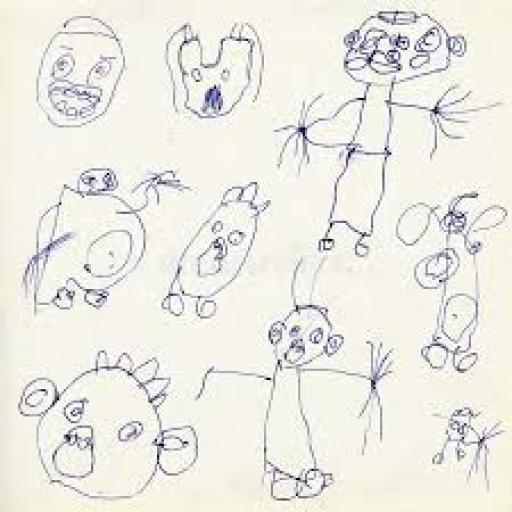person: (286, 2, 477, 260), (198, 276, 402, 505), (13, 343, 192, 503), (13, 166, 191, 313), (391, 180, 509, 381), (174, 170, 279, 321), (151, 14, 277, 124), (34, 4, 129, 133), (416, 392, 511, 500)
